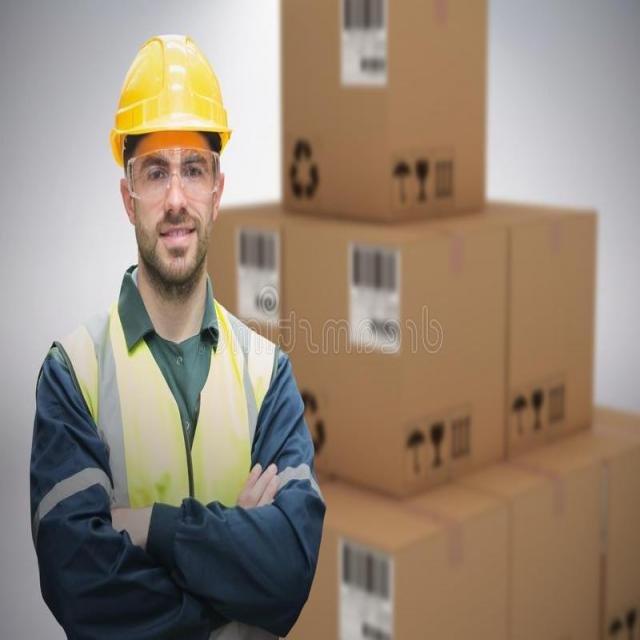Reflective-Jacket: (60, 300, 278, 521)
Safety-Helmet: (110, 30, 235, 149)
